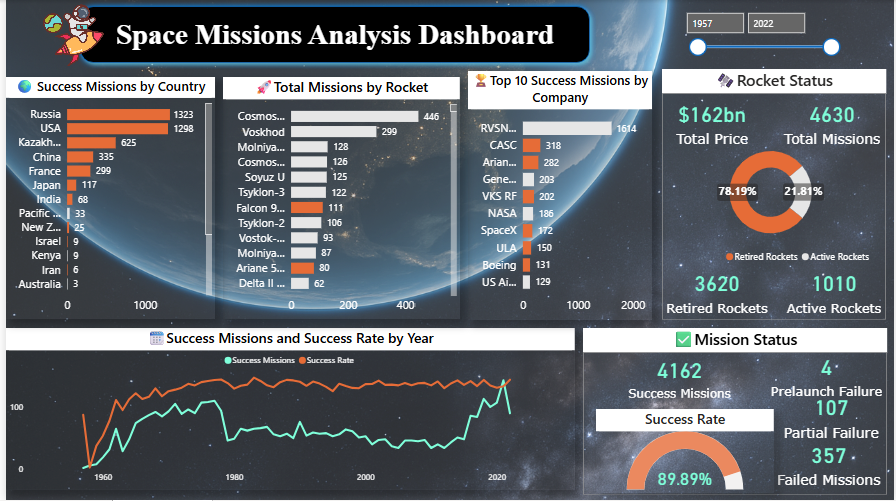

The page's visual inventory and layout, read from the dashboard file:
{"tool":"powerbi","page":{"name":"Dashboard","canvas":[1280,720],"ordinal":0},"visuals":[{"type":"shape","box":[97.9,0,751.7,99.4],"z":0},{"type":"slicer","fields":{"Values":["Date Table.Year"]},"box":[967.7,8.6,241.9,79.2],"z":1000},{"type":"lineChart","title":"🗓️Success Missions and Success Rate by Year","fields":{"Y":["All Measures.Success Missions"],"Category":["Date Table.Year"],"Y2":["All Measures.Success Rate"]},"box":[0,472.3,819.4,233.3],"z":2000},{"type":"clusteredBarChart","title":"🌍 Success Missions by Country","fields":{"Category":["Space_Missions.Country"],"Y":["All Measures.Success Missions"]},"box":[0,110.9,301,348.5],"z":3000},{"type":"clusteredBarChart","title":"🚀Total Missions by Rocket","fields":{"Y":["All Measures.Total Missions"],"Category":["Space_Missions.Rocket"]},"box":[312.4,110.9,341,349.4],"z":4000},{"type":"clusteredBarChart","title":"🏆Top 10 Success Missions by Company","fields":{"Category":["Space_Missions.Company"],"Y":["All Measures.Success Missions"]},"box":[665.2,102.5,265.4,357.8],"z":5000},{"type":"shape","title":"🛰️Rocket Status","box":[944.6,99.4,322.6,361.4],"z":6000},{"type":"shape","title":"✅Mission Status","box":[830.9,472.3,437.8,240.5],"z":7000},{"type":"card","fields":{"Values":["All Measures.Total Price"]},"box":[944,134.4,144.5,82.3],"z":8000},{"type":"card","fields":{"Values":["All Measures.Total Missions"]},"box":[1107,134.4,164.6,82.3],"z":9000},{"type":"card","fields":{"Values":["All Measures.Retired Rockets"]},"box":[944.6,377.3,158.4,82.1],"z":10000},{"type":"card","fields":{"Values":["All Measures.Active Rockets"]},"box":[1110.2,377.3,164.2,82.1],"z":11000},{"type":"donutChart","fields":{"Y":["All Measures.Retired Rockets","All Measures.Active Rockets"]},"box":[949.1,194.9,304,194],"z":12000},{"type":"card","fields":{"Values":["All Measures.Success Missions"]},"box":[861.1,506.9,217.4,70.6],"z":13000},{"type":"card","fields":{"Values":["All Measures.Prelaunch Failure"]},"box":[1094.4,485.3,180,77.8],"z":14000},{"type":"card","fields":{"Values":["All Measures.Partial Failure"]},"box":[1110.3,559.4,156.2,77.3],"z":15000},{"type":"card","fields":{"Values":["All Measures.Failed Missions"]},"box":[1101.9,626.6,166.3,79],"z":16000},{"type":"gauge","fields":{"Y":["All Measures.Success Rate"]},"box":[849.6,589,256.3,121],"z":17000},{"type":"image","box":[47.5,0,99.4,102.2],"z":18000}]}

Visuals, with their boxes in screenshot pixels (x1, y1, x2, y2), scaled from the page's 1280x720 canvas onto the 896x501 screenshot:
shape: crop(69, 0, 595, 69)
slicer - Date Table.Year: crop(677, 6, 847, 61)
"🗓️Success Missions and Success Rate by Year" lineChart: crop(0, 329, 574, 491)
"🌍 Success Missions by Country" clusteredBarChart: crop(0, 77, 211, 320)
"🚀Total Missions by Rocket" clusteredBarChart: crop(219, 77, 457, 320)
"🏆Top 10 Success Missions by Company" clusteredBarChart: crop(466, 71, 651, 320)
"🛰️Rocket Status" shape: crop(661, 69, 887, 321)
"✅Mission Status" shape: crop(582, 329, 888, 496)
card - All Measures.Total Price: crop(661, 94, 762, 151)
card - All Measures.Total Missions: crop(775, 94, 890, 151)
card - All Measures.Retired Rockets: crop(661, 263, 772, 320)
card - All Measures.Active Rockets: crop(777, 263, 892, 320)
donutChart - All Measures.Retired Rockets x All Measures.Active Rockets: crop(664, 136, 877, 271)
card - All Measures.Success Missions: crop(603, 353, 755, 402)
card - All Measures.Prelaunch Failure: crop(766, 338, 892, 392)
card - All Measures.Partial Failure: crop(777, 389, 887, 443)
card - All Measures.Failed Missions: crop(771, 436, 888, 491)
gauge - All Measures.Success Rate: crop(595, 410, 774, 494)
image: crop(33, 0, 103, 71)
